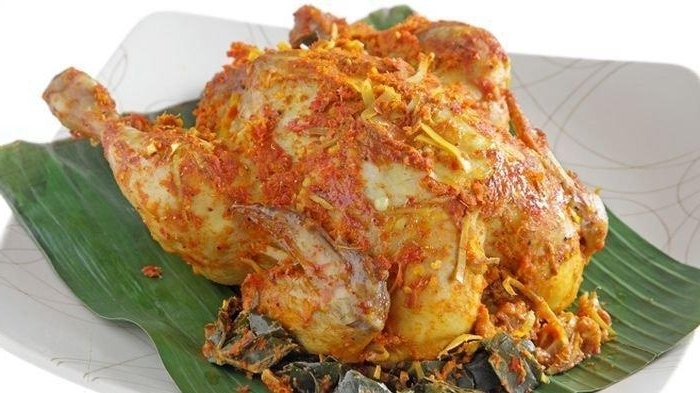ayam_betutu: (45, 6, 610, 366)
